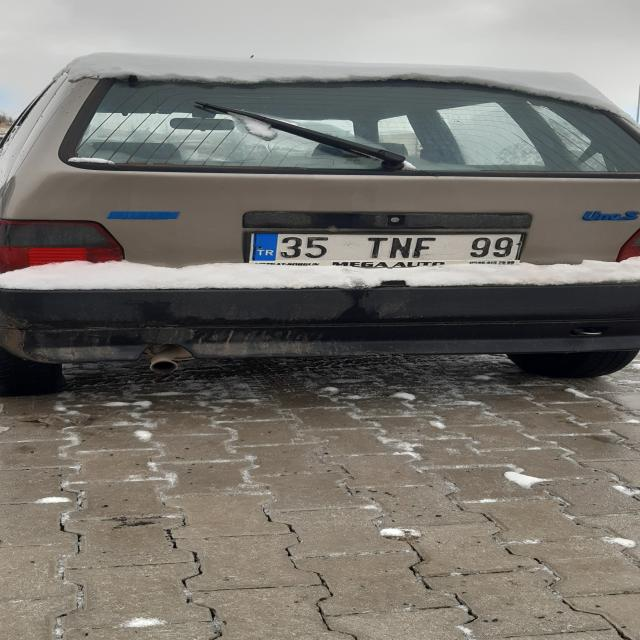plate: (250, 232, 523, 262)
